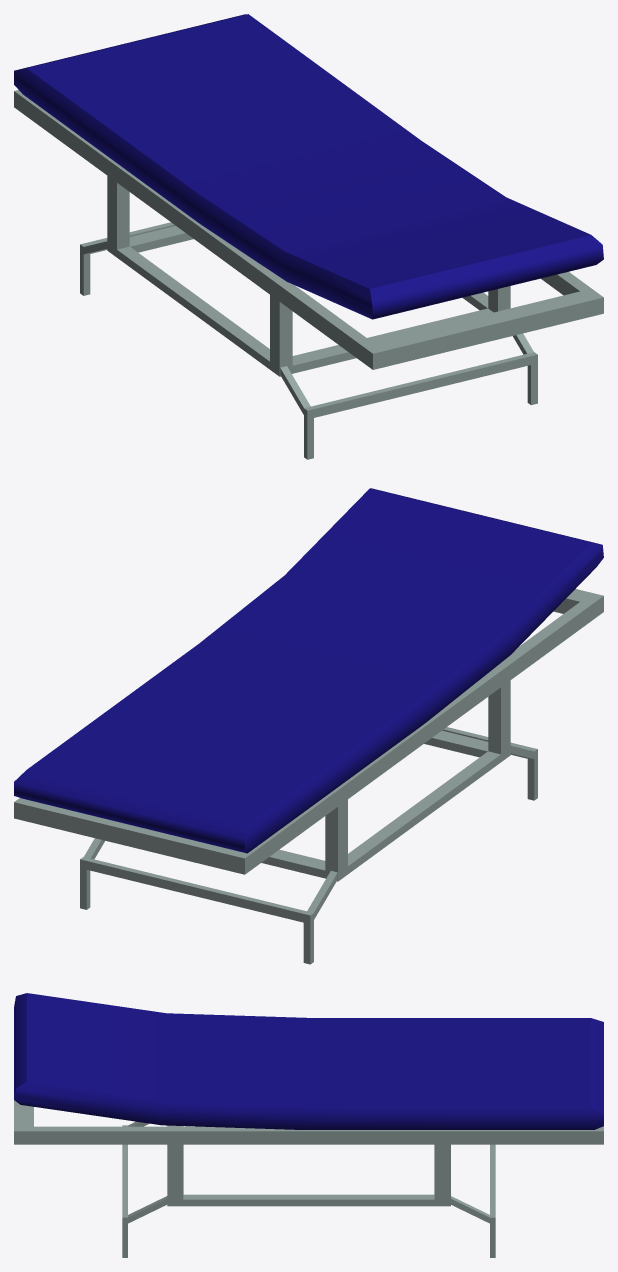
File: Camilla.fbx
3 renders of one model, top to bottom at view 1: azimuth 30°, elevation 25°; view 2: azimuth 150°, elevation 25°; view 3: azimuth 270°, elevation 25°, orthographic. The views are drawn at different scales.
Visible parts, largest first — view 1: Cube, Cube.004; view 2: Cube, Cube.004; view 3: Cube, Cube.004.
Part boxes in pixels (bbox=[...]): Cube: bbox=[14, 14, 603, 319]; Cube.004: bbox=[14, 90, 603, 459]; Cube: bbox=[14, 488, 603, 853]; Cube.004: bbox=[14, 589, 603, 964]; Cube: bbox=[14, 993, 603, 1129]; Cube.004: bbox=[14, 1100, 603, 1257].
Size of the model in its own units: 154 by 136 by 416.
